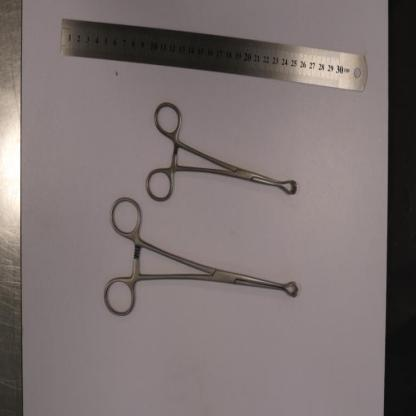8 Babcock Tissue Forceps: (103, 199, 298, 318)
Babcock Tissue Forceps: (147, 100, 298, 202)
